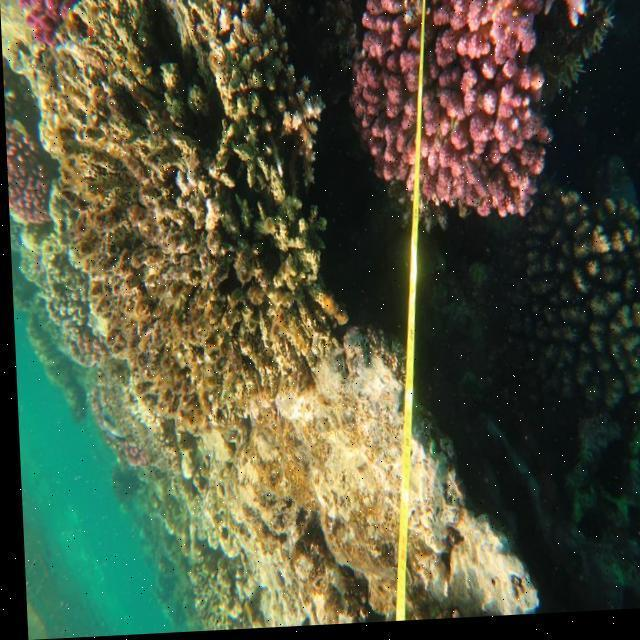Healthy Coral: (346, 1, 556, 240)
